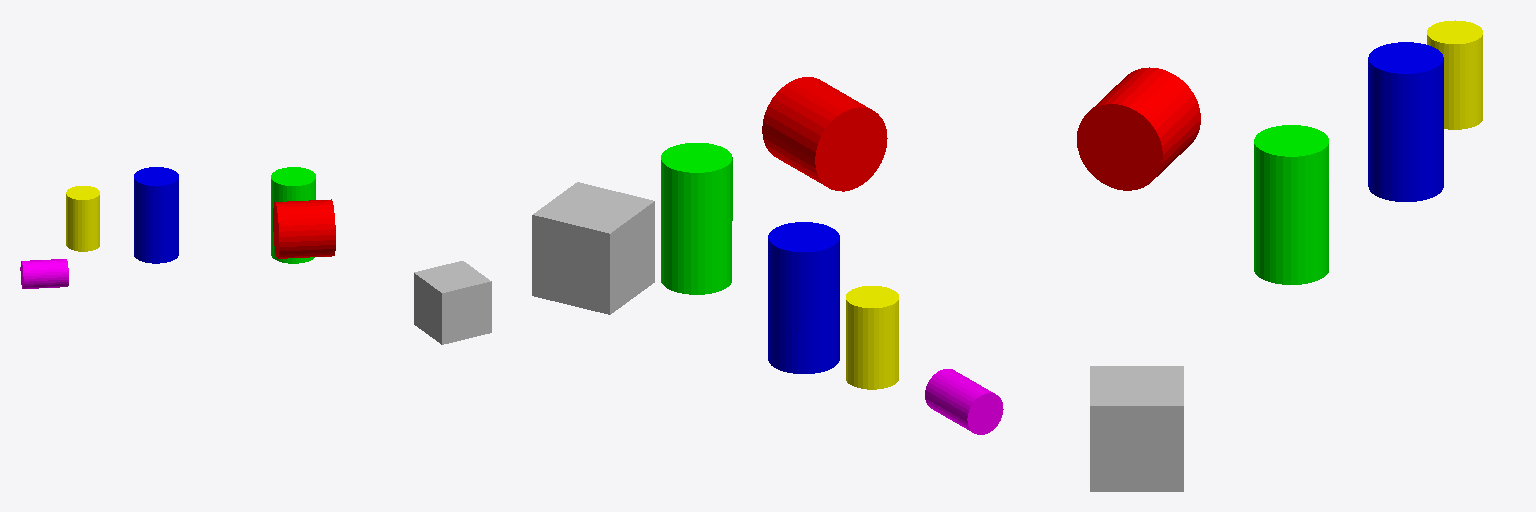
The robot description file, URDF, robot "ic_arm":
<?xml version="1.0" encoding="utf-8"?>
<!-- This file contains a robot description (URDF) for Pinocchio -->
<!-- Modified from ic1.1.2.urdf to include joint limits required by Pinocchio -->
<robot
	name="ic_arm">
	<link
		name="base_link">
		<inertial>
			<origin
				xyz="0.0 0.0 0.0"
				rpy="0 0 0" />
			<mass
				value="1.0" />
			<inertia
				ixx="0.001"
				ixy="0.0"
				ixz="0.0"
				iyy="0.001"
				iyz="0.0"
				izz="0.001" />
		</inertial>
		<visual>
			<origin
				xyz="0 0 0"
				rpy="0 0 0" />
			<geometry>
				<box size="0.1 0.1 0.1"/>
			</geometry>
			<material name="base_material">
				<color rgba="0.8 0.8 0.8 1" />
			</material>
		</visual>
	</link>
	
	<link
		name="l1">
		<inertial>
			<origin
				xyz="-0.0738485691400352 -0.0276499999999996 0.0"
				rpy="0 0 0" />
			<mass
				value="0.301661437311036" />
			<inertia
				ixx="0.000143491154639993"
				ixy="-2.5129579364346E-07"
				ixz="-4.05027387114055E-08"
				iyy="0.000242262360164897"
				iyz="1.62108577569322E-08"
				izz="0.000177268625082043" />
		</inertial>
		<visual>
			<origin
				xyz="0 0 0"
				rpy="0 0 0" />
			<geometry>
				<cylinder radius="0.05" length="0.1"/>
			</geometry>
			<material name="l1_material">
				<color rgba="1 0 0 1" />
			</material>
		</visual>
	</link>
	
	<joint
		name="j1"
		type="revolute">
		<origin
			xyz="-0.29856 0.0020693 0.21104"
			rpy="1.5708 0 1.1547" />
		<parent
			link="base_link" />
		<child
			link="l1" />
		<axis
			xyz="0 1 0" />
		<limit
			lower="-3.14159"
			upper="3.14159"
			effort="100"
			velocity="10" />
	</joint>
	
	<link
		name="l2">
		<inertial>
			<origin
				xyz="-0.109943403200528 0.00208057979858922 -1.08037533150251E-06"
				rpy="0 0 0" />
			<mass
				value="0.301661437311036" />
			<inertia
				ixx="0.000143491154639993"
				ixy="-2.5129579364346E-07"
				ixz="-4.05027387114055E-08"
				iyy="0.000242262360164897"
				iyz="1.62108577569322E-08"
				izz="0.000177268625082043" />
		</inertial>
		<visual>
			<origin
				xyz="0 0 0"
				rpy="0 0 0" />
			<geometry>
				<cylinder radius="0.04" length="0.15"/>
			</geometry>
			<material name="l2_material">
				<color rgba="0 1 0 1" />
			</material>
		</visual>
	</link>
	
	<joint
		name="j2"
		type="revolute">
		<origin
			xyz="0.176971378800704 -0.0552999999999993 0"
			rpy="0 1.57 -1.57079632679489" />
		<parent
			link="l1" />
		<child
			link="l2" />
		<axis
			xyz="0 1 0" />
		<limit
			lower="-3.14159"
			upper="3.14159"
			effort="100"
			velocity="10" />
	</joint>
	
	<link
		name="l3">
		<inertial>
			<origin
				xyz="-0.109943403200528 0.00208057979858922 -1.08037533150251E-06"
				rpy="0 0 0" />
			<mass
				value="0.301661437311036" />
			<inertia
				ixx="0.000143491154639993"
				ixy="-2.5129579364346E-07"
				ixz="-4.05027387114055E-08"
				iyy="0.000242262360164897"
				iyz="1.62108577569322E-08"
				izz="0.000177268625082043" />
		</inertial>
		<visual>
			<origin
				xyz="0 0 0"
				rpy="0 0 0" />
			<geometry>
				<cylinder radius="0.04" length="0.15"/>
			</geometry>
			<material name="l3_material">
				<color rgba="0 0 1 1" />
			</material>
		</visual>
	</link>
	
	<joint
		name="j3"
		type="revolute">
		<origin
			xyz="0.239291817338248 0.0267286211992953 0"
			rpy="0 0 3.14" />
		<parent
			link="l2" />
		<child
			link="l3" />
		<axis
			xyz="-1 0 0" />
		<limit
			lower="-3.14159"
			upper="3.14159"
			effort="100"
			velocity="10" />
	</joint>
	
	<link
		name="l4">
		<inertial>
			<origin
				xyz="-0.0719024636211236 0.0371837584221808 0.0369977170552586"
				rpy="0 0 0" />
			<mass
				value="0.356837818566484" />
			<inertia
				ixx="0.00074455347502792"
				ixy="0.000152142345766084"
				ixz="0.000123700221056116"
				iyy="0.000827958622307639"
				iyz="-0.000209810266491571"
				izz="0.000818475725962542" />
		</inertial>
		<visual>
			<origin
				xyz="0 0 0"
				rpy="0 0 0" />
			<geometry>
				<cylinder radius="0.03" length="0.1"/>
			</geometry>
			<material name="l4_material">
				<color rgba="1 1 0 1" />
			</material>
		</visual>
	</link>
	
	<joint
		name="j4"
		type="revolute">
		<origin
			xyz="-0.129008182661752 0 0"
			rpy="0 0 0" />
		<parent
			link="l3" />
		<child
			link="l4" />
		<axis
			xyz="0 -1 0" />
		<limit
			lower="-3.14159"
			upper="3.14159"
			effort="100"
			velocity="10" />
	</joint>
	
	<link
		name="l5">
		<inertial>
			<origin
				xyz="-0.0379164384977502 0.0356500000000003 0.0350000000000001"
				rpy="0 0 0" />
			<mass
				value="0.0947161504424779" />
			<inertia
				ixx="0.000270532442358034"
				ixy="-1.97454104589701E-06"
				ixz="1.12789222485375E-05"
				iyy="0.000273026809704054"
				iyz="1.17931137142189E-05"
				izz="3.99937954343094E-05" />
		</inertial>
		<visual>
			<origin
				xyz="0 0 0"
				rpy="0 0 0" />
			<geometry>
				<cylinder radius="0.025" length="0.08"/>
			</geometry>
			<material name="l5_material">
				<color rgba="1 0 1 1" />
			</material>
		</visual>
	</link>
	
	<joint
		name="j5"
		type="revolute">
		<origin
			xyz="-0.0758328769955004 0.0713000000000006 0.0700000000000002"
			rpy="-1.57079632679489 1.22460020901222 -1.57079632679489" />
		<parent
			link="l4" />
		<child
			link="l5" />
		<axis
			xyz="0 0 -1" />
		<limit
			lower="-3.14159"
			upper="3.14159"
			effort="100"
			velocity="10" />
	</joint>
</robot>

--- Facts derived from the render (not from the file) ---
Views: 3 orthographic renders of the robot side by side, from view 1: azimuth 30°, elevation 25°; view 2: azimuth 150°, elevation 25°; view 3: azimuth 270°, elevation 25°.
Robot: ic_arm — 6 links, 5 joints (5 revolute); root link base_link; default pose: every joint at zero.
Visible links, largest first — view 1: base_link, l3, l1, l4, l2, l5; view 2: base_link, l3, l2, l1, l4, l5; view 3: base_link, l3, l2, l1, l4.
Boxes of the visible links, bbox=[...] form: base_link: bbox=[414, 261, 491, 344]; l3: bbox=[134, 167, 178, 263]; l1: bbox=[273, 199, 335, 258]; l4: bbox=[66, 186, 99, 251]; l2: bbox=[271, 167, 315, 263]; l5: bbox=[20, 259, 68, 288]; base_link: bbox=[532, 182, 654, 314]; l3: bbox=[768, 222, 839, 373]; l2: bbox=[661, 143, 732, 294]; l1: bbox=[762, 77, 887, 191]; l4: bbox=[846, 286, 898, 389]; l5: bbox=[925, 369, 1003, 434]; base_link: bbox=[1090, 366, 1183, 491]; l3: bbox=[1368, 42, 1443, 201]; l2: bbox=[1254, 125, 1328, 284]; l1: bbox=[1077, 67, 1200, 190]; l4: bbox=[1427, 20, 1482, 129].
Bounding box of the posed robot: 0.7479 × 0.4309 × 0.311 m (x, y, z).
Geometry: primitives only (box / cylinder / sphere), no mesh files.